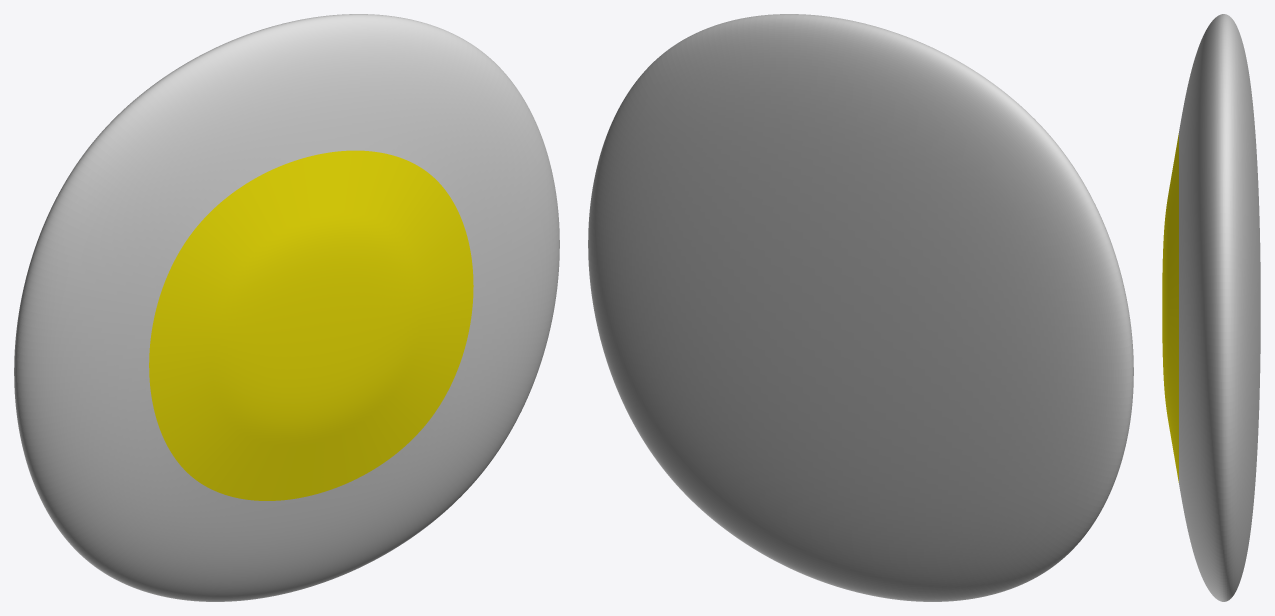
Rendered from ALVO Amarelo.fbx.
3 renders of one model, left to right at view 1: azimuth 30°, elevation 25°; view 2: azimuth 150°, elevation 25°; view 3: azimuth 270°, elevation 25°, orthographic. The views are drawn at different scales.
Parts seen in each view (by area): view 1: Cube; view 2: Cube; view 3: Cube.
Part boxes in pixels (box(x1,y1,x2,y2)): Cube: box(14, 14, 559, 601); Cube: box(588, 14, 1133, 601); Cube: box(1162, 14, 1260, 601).
Size of the model in its own units: 177 by 177 by 30.12.
